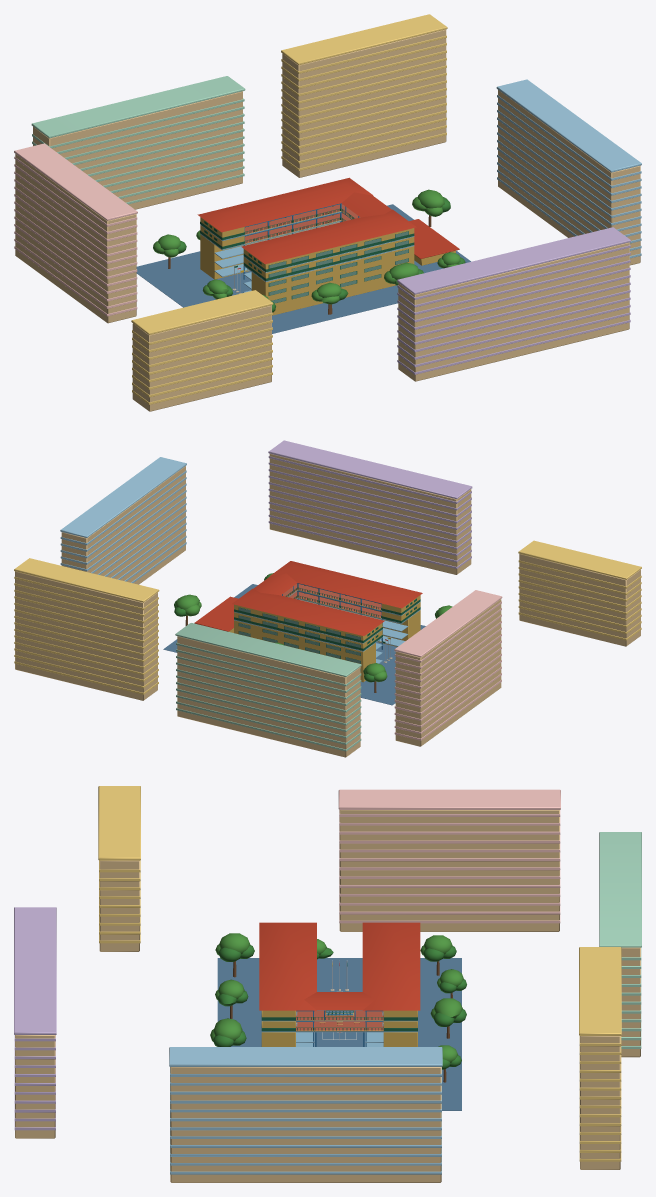
Rendered from classroom_lit.glb.
3 renders of one model, top to bottom at view 1: azimuth 30°, elevation 25°; view 2: azimuth 150°, elevation 25°; view 3: azimuth 270°, elevation 25°, orthographic. The views are drawn at different scales.
Parts seen in each view (by area): view 1: map_o_cap, map_o_f2d27c, map_o_c7b5d9, map_o_a6d6be, map_roofred, map_o_9ec9df, map_o_f4c7c3, map_wall, map_tarmac, map_leaf, map_ceil, map_glassg (+3 smaller); view 2: map_o_cap, map_o_f2d27c, map_o_c7b5d9, map_o_a6d6be, map_roofred, map_o_f4c7c3, map_o_9ec9df, map_wall, map_tarmac, map_ceil, map_glassg, map_screed (+3 smaller); view 3: map_o_cap, map_o_9ec9df, map_o_f4c7c3, map_roofred, map_o_f2d27c, map_tarmac, map_o_c7b5d9, map_o_a6d6be, map_leaf, map_wall, map_leaf2, map_screed (+2 smaller).
Part boxes in pixels (left/top/right/bottom): map_o_cap: left=15, top=29, right=640, bottom=411; map_o_f2d27c: left=131, top=14, right=447, bottom=404; map_o_c7b5d9: left=397, top=227, right=630, bottom=374; map_o_a6d6be: left=31, top=76, right=245, bottom=204; map_roofred: left=197, top=177, right=459, bottom=264; map_o_9ec9df: left=496, top=79, right=641, bottom=258; map_o_f4c7c3: left=14, top=143, right=137, bottom=316; map_wall: left=200, top=211, right=455, bottom=315; map_tarmac: left=136, top=204, right=470, bottom=333; map_leaf: left=153, top=189, right=460, bottom=304; map_ceil: left=200, top=211, right=414, bottom=292; map_glassg: left=269, top=231, right=408, bottom=303; map_o_cap: left=15, top=454, right=640, bottom=757; map_o_f2d27c: left=14, top=540, right=641, bottom=694; map_o_c7b5d9: left=268, top=440, right=472, bottom=568; map_o_a6d6be: left=175, top=623, right=361, bottom=751; map_roofred: left=194, top=561, right=422, bottom=635; map_o_f4c7c3: left=394, top=590, right=502, bottom=740; map_o_9ec9df: left=60, top=457, right=186, bottom=583; map_wall: left=228, top=589, right=420, bottom=682; map_tarmac: left=163, top=584, right=425, bottom=705; map_ceil: left=234, top=590, right=420, bottom=663; map_glassg: left=239, top=607, right=360, bottom=663; map_screed: left=281, top=584, right=381, bottom=617; map_o_cap: left=15, top=810, right=640, bottom=1182; map_o_9ec9df: left=169, top=1047, right=442, bottom=1174; map_o_f4c7c3: left=338, top=789, right=560, bottom=923; map_roofred: left=259, top=922, right=420, bottom=1010; map_o_f2d27c: left=98, top=786, right=621, bottom=1161; map_tarmac: left=217, top=958, right=461, bottom=1110; map_o_c7b5d9: left=14, top=907, right=56, bottom=1130; map_o_a6d6be: left=599, top=832, right=641, bottom=1048; map_leaf: left=210, top=933, right=463, bottom=1062; map_wall: left=261, top=1010, right=417, bottom=1046; map_leaf2: left=213, top=945, right=466, bottom=1069; map_screed: left=296, top=1010, right=383, bottom=1030.
Size of what is drawn, in the model's own units: 212 by 45 by 186.
